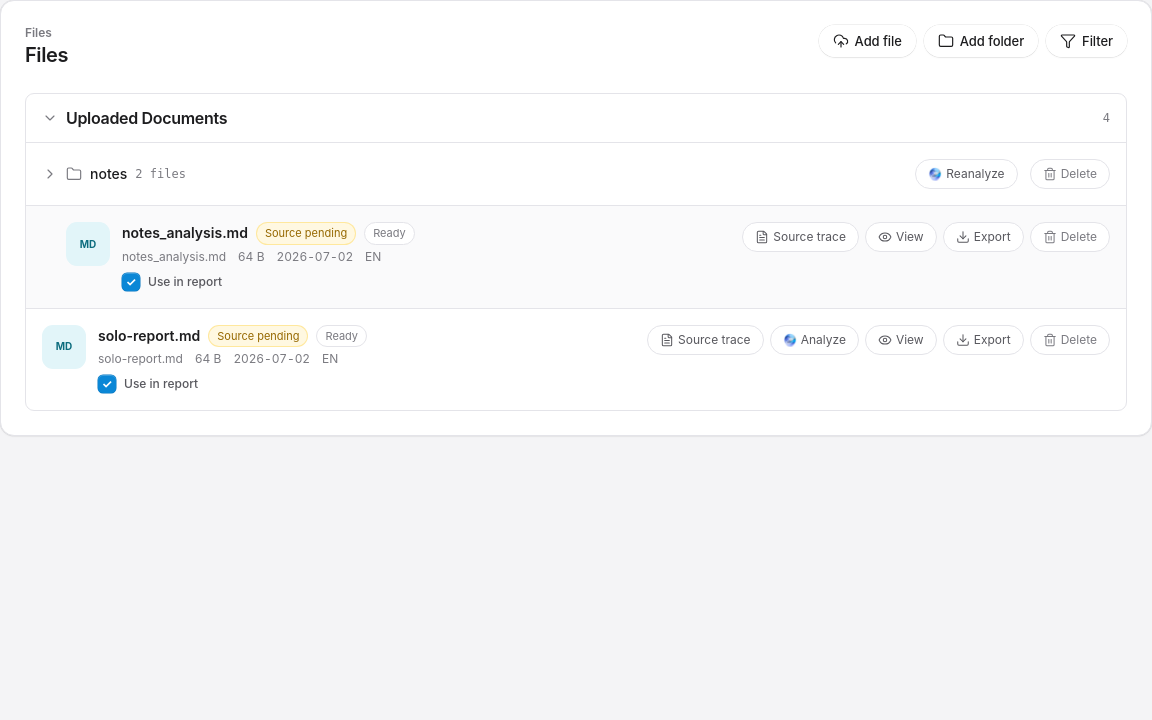
Scenario: UnifiedDocumentsView › groups folder members under a folded header with fold/unfold
This screenshot has width=1152, height=720.
Check: the text "note1.md" is not shown
Click the button "notes 2 files": (114,174) [42,164,186,184]
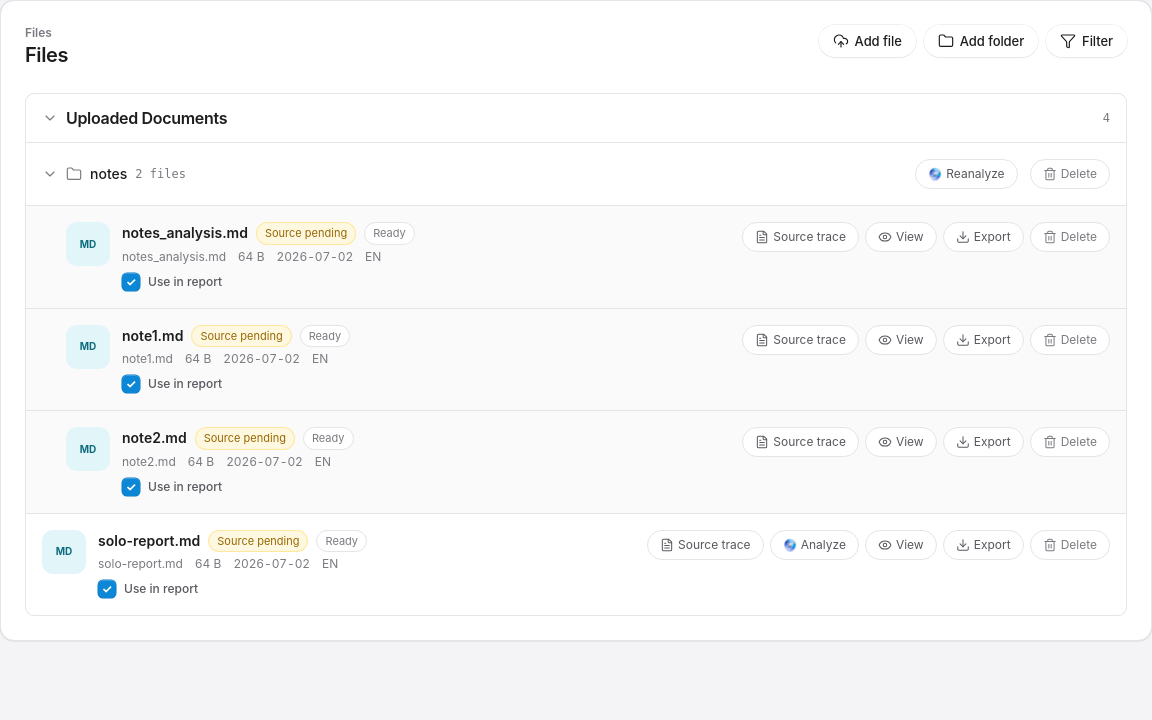
Check: the text "note1.md" is shown, box [122,326,183,346]
Check: the text "note2.md" is shown, box [122,428,187,448]
